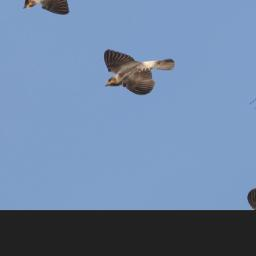Swallow: (80, 26, 186, 110)
